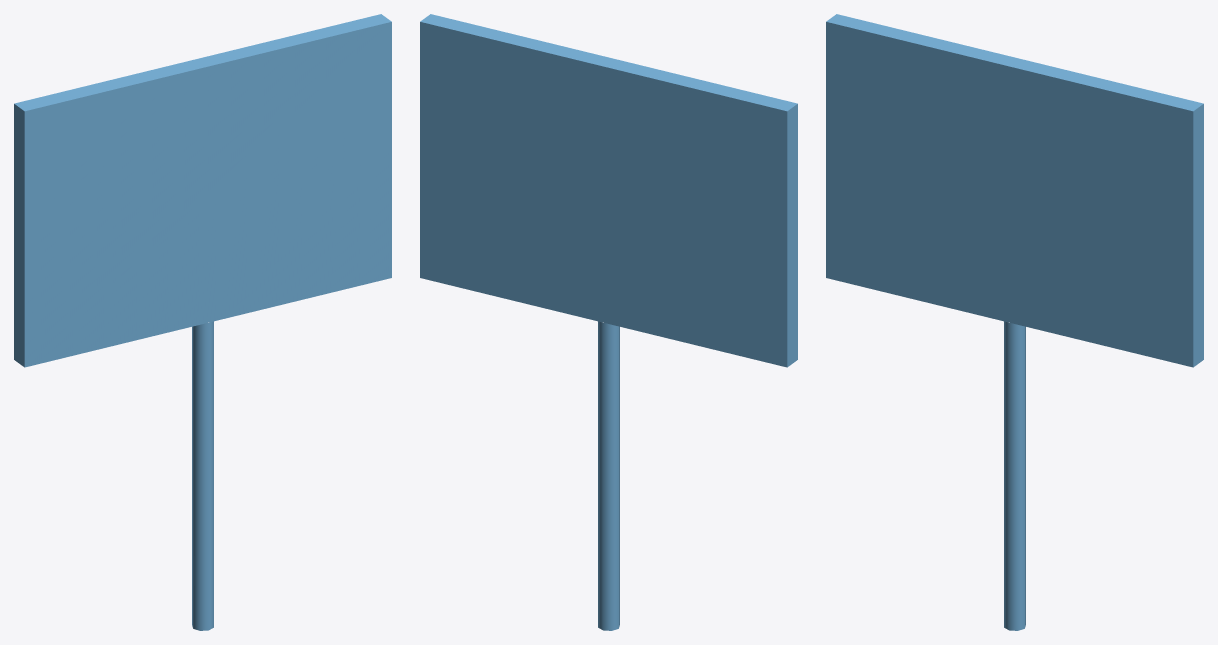
Rendered from sign-3x2.glb.
3 renders of one model, left to right at view 1: azimuth 30°, elevation 25°; view 2: azimuth 150°, elevation 25°; view 3: azimuth 330°, elevation 25°, orthographic.
Visible parts, largest first — view 1: sign-3x2; view 2: sign-3x2; view 3: sign-3x2.
Boxes of the visible parts, x1,y1,x2,y2 form: sign-3x2: (14, 14, 391, 630); sign-3x2: (420, 14, 797, 630); sign-3x2: (826, 14, 1203, 630).
Bounding box in the file's own units: 3 × 4.4 × 0.16.
